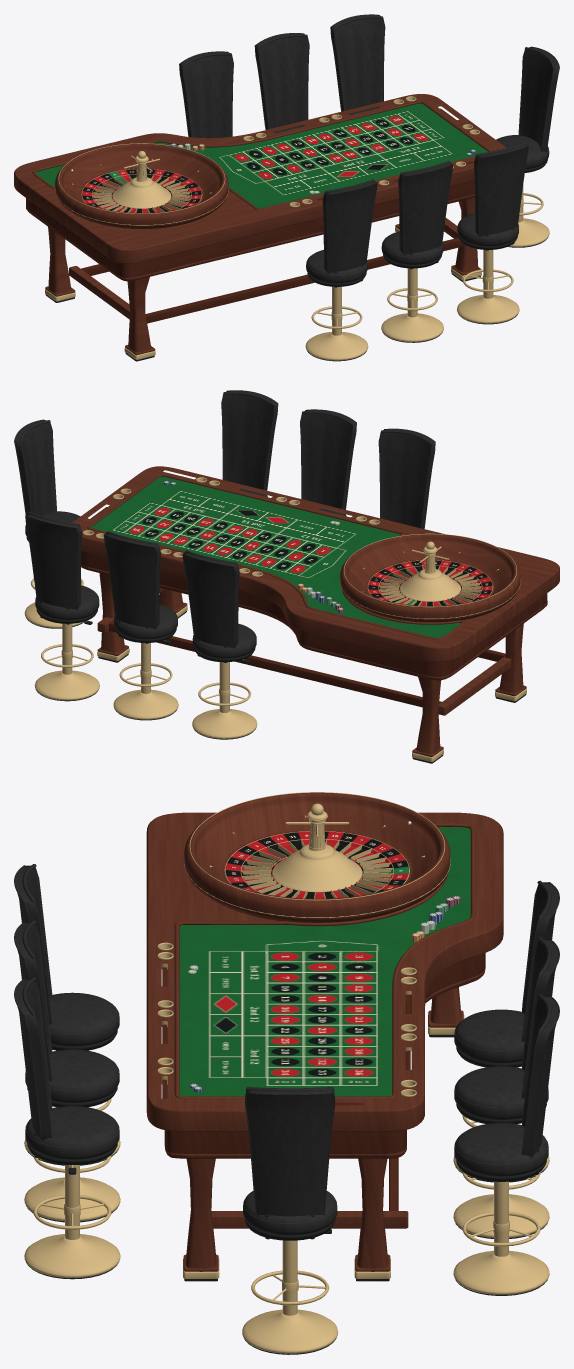
File: royal_roulette_detailed.glb
3 renders of one model, top to bottom at view 1: azimuth 30°, elevation 25°; view 2: azimuth 150°, elevation 25°; view 3: azimuth 270°, elevation 25°, orthographic. The views are drawn at different scales.
Visible parts, largest first — view 1: Walnut_Table_Felt_Cupholders_and_Legs, Wheel_Static_Bowl, Chair_02, Chair_03, Chair_01, Chair_07, Wheel_Rotor_PIVOT, Chair_05, Chair_06, Chair_04; view 2: Walnut_Table_Felt_Cupholders_and_Legs, Wheel_Static_Bowl, Chair_04, Chair_06, Chair_05, Wheel_Rotor_PIVOT, Chair_03, Chair_02, Chair_01, Chair_07; view 3: Walnut_Table_Felt_Cupholders_and_Legs, Chair_07, Wheel_Static_Bowl, Chair_06, Chair_03, Wheel_Rotor_PIVOT, Chair_05, Chair_02, Chair_01, Chair_04, Chip_Stacks.
Boxes of the visible parts, x1,y1,x2,y2 form: Walnut_Table_Felt_Cupholders_and_Legs: (14, 94, 506, 361); Wheel_Static_Bowl: (55, 143, 228, 228); Chair_02: (381, 161, 452, 342); Chair_03: (457, 142, 528, 324); Chair_01: (305, 179, 377, 361); Chair_07: (496, 46, 559, 247); Wheel_Rotor_PIVOT: (81, 151, 202, 212); Chair_05: (254, 33, 309, 133); Chair_06: (330, 14, 385, 114); Chair_04: (179, 51, 233, 138); Walnut_Table_Felt_Cupholders_and_Legs: (72, 466, 559, 763); Wheel_Static_Bowl: (340, 533, 520, 622); Chair_04: (182, 550, 257, 739); Chair_06: (25, 512, 99, 701); Chair_05: (104, 531, 178, 720); Wheel_Rotor_PIVOT: (367, 541, 493, 606); Chair_03: (221, 390, 278, 497); Chair_02: (300, 409, 356, 516); Chair_01: (378, 428, 435, 528); Chair_07: (14, 419, 84, 628); Walnut_Table_Felt_Cupholders_and_Legs: (146, 812, 503, 1281); Chair_07: (242, 1087, 338, 1354); Wheel_Static_Bowl: (184, 792, 450, 922); Chair_06: (453, 994, 559, 1295); Chair_03: (14, 977, 120, 1279); Wheel_Rotor_PIVOT: (225, 803, 409, 898); Chair_05: (453, 937, 559, 1238); Chair_02: (14, 920, 120, 1222); Chair_01: (14, 864, 120, 1165); Chair_04: (453, 880, 559, 1182); Chip_Stacks: (188, 896, 460, 1092).
Size of the model in its own units: 4.04 by 1.41 by 2.61.
Materials: 11 (7 with a texture image).
